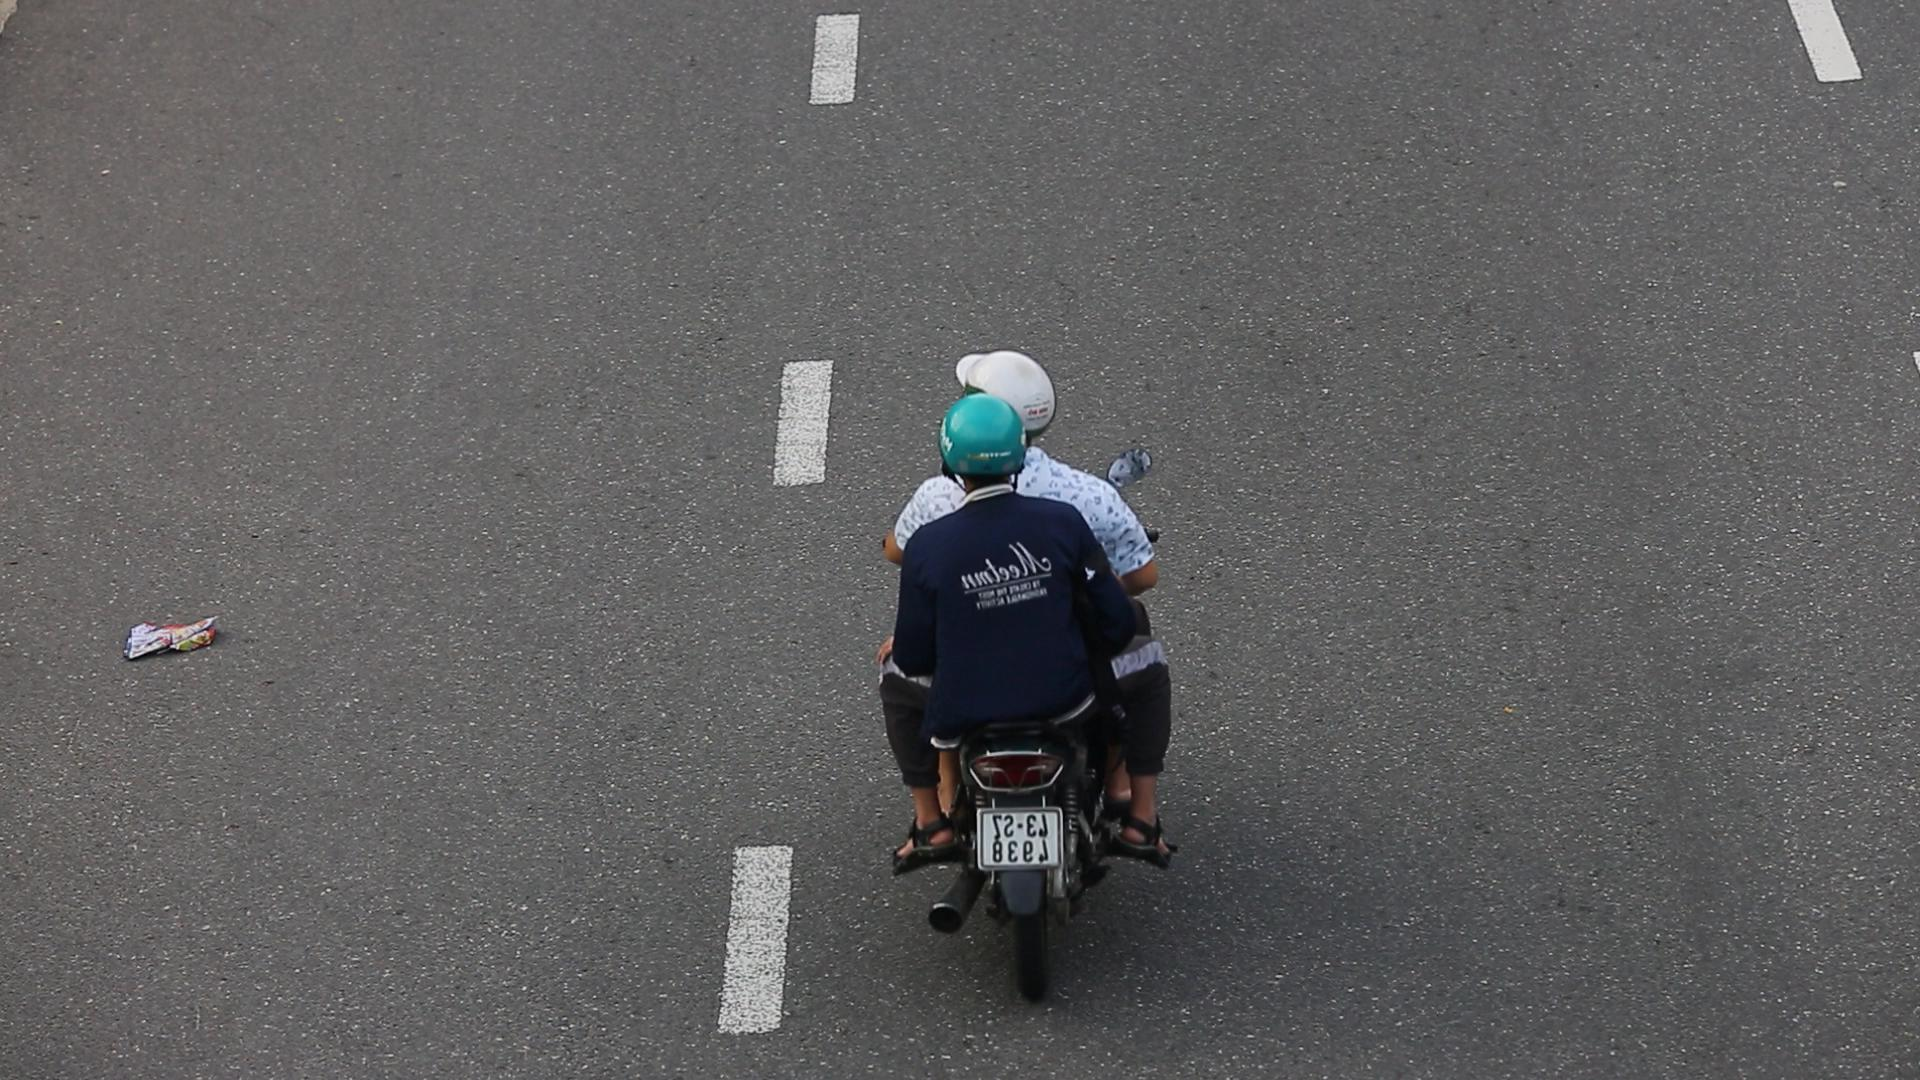motobike: (864, 339, 1189, 1021)
